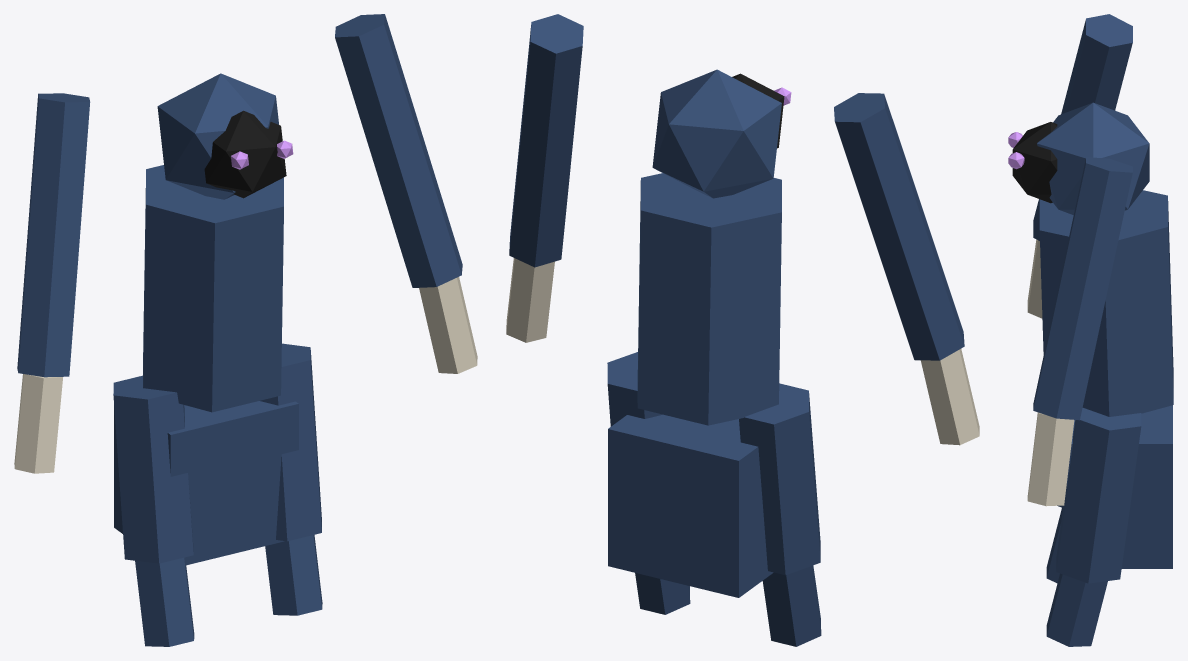
Rendered from npcpose_wraith_walk_07.glb.
3 views of the same model, side by side, from view 1: azimuth 30°, elevation 25°; view 2: azimuth 150°, elevation 25°; view 3: azimuth 270°, elevation 25° (orthographic). The views are drawn at different scales.
Parts seen in each view (by area): view 1: npcpose; view 2: npcpose; view 3: npcpose.
Part boxes in pixels (x1=…): npcpose: x1=14, y1=14, x2=477, y2=646; npcpose: x1=506, y1=14, x2=979, y2=646; npcpose: x1=1008, y1=14, x2=1173, y2=646.
Size of the model in its own units: 0.9388 by 1.08 by 0.3123.
